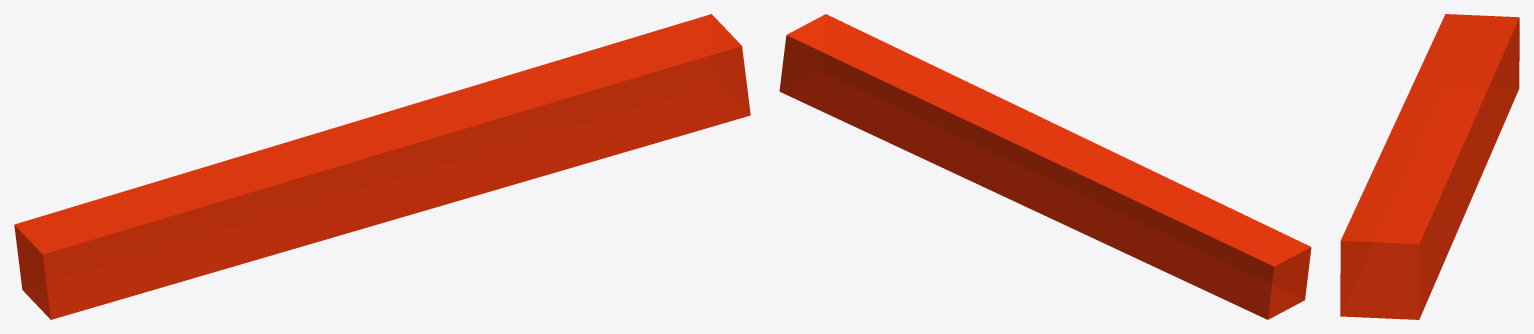
The model's file is Event_420107950_EErechit_40.fbx.
3 views of the same model, side by side, from view 1: azimuth 30°, elevation 25°; view 2: azimuth 150°, elevation 25°; view 3: azimuth 270°, elevation 25° (orthographic). The views are drawn at different scales.
Parts seen in each view (by area): view 1: Model; view 2: Model; view 3: Model.
Boxes of the visible parts, x1,y1,x2,y2 form: Model: (14,14,750,319); Model: (779,14,1311,319); Model: (1340,14,1519,319).
Size of the model in its own units: 0.7449 by 0.1685 by 0.1739.
